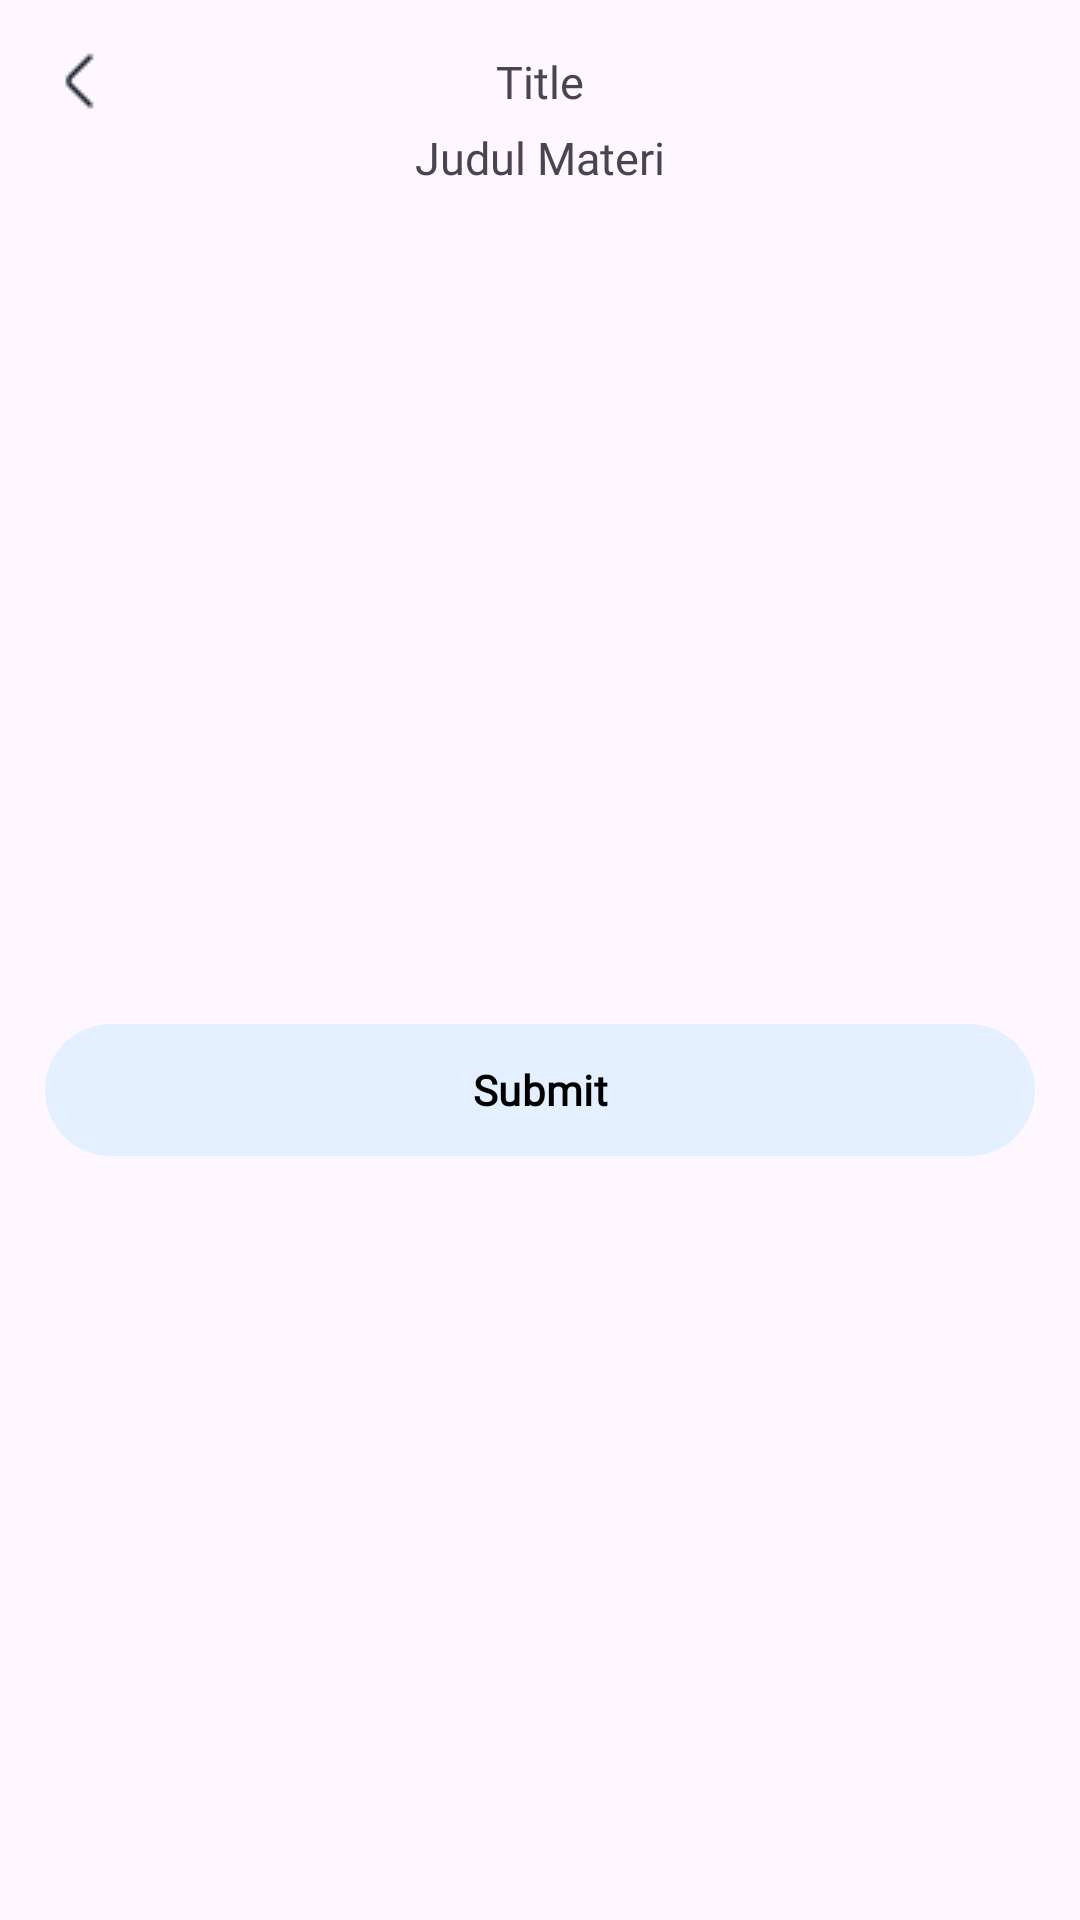

Screen size 1080 × 1920. Icon name, then its box in pixels as (x1, y1, x2, y2):
back: (65, 53, 94, 109)
